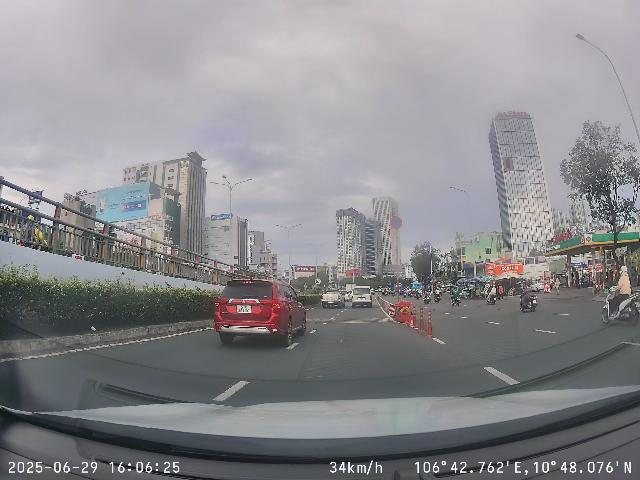130-cam-dung-va-do-xe: (389, 216, 402, 229)
134-het-han-che-toc-do-toi-da: (314, 278, 321, 285)
